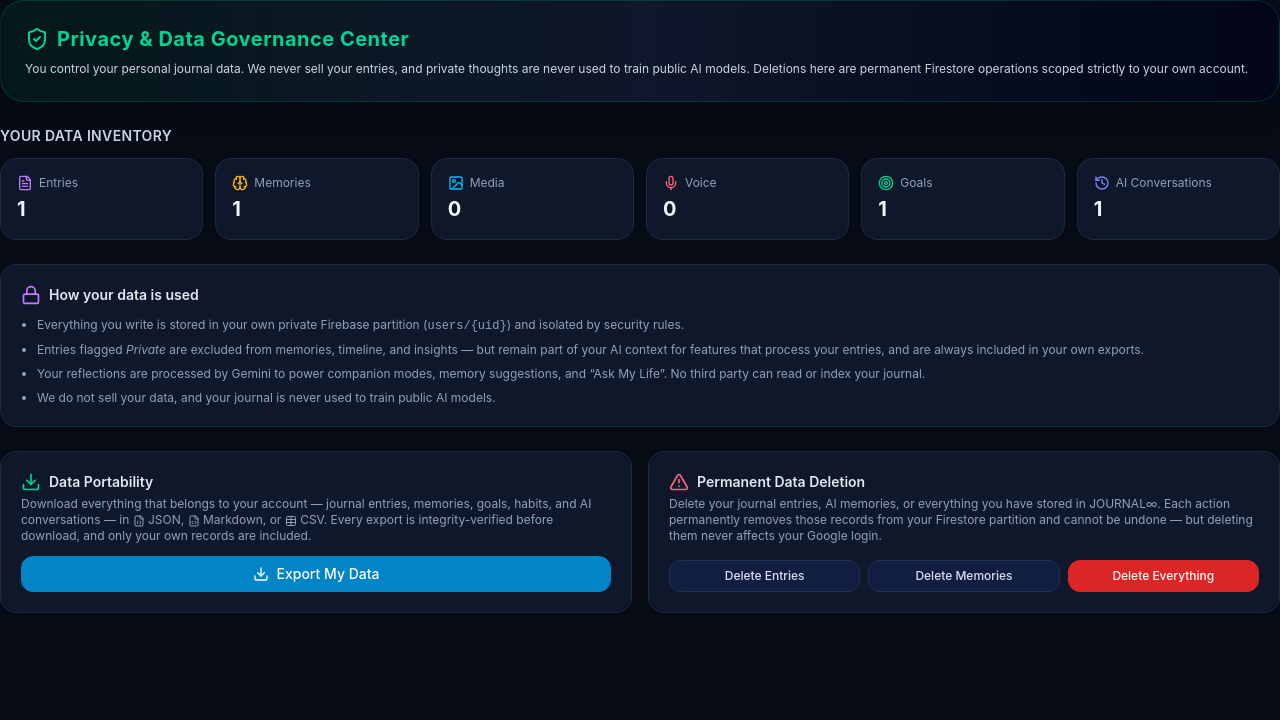
it: PrivacyCenterView component › requires typing the exact word DELETE before journal deletion is confirmed
This screenshot has width=1280, height=720.
Click the button "Delete Entries". click: (765, 576)
box: 669,560 -> 860,592
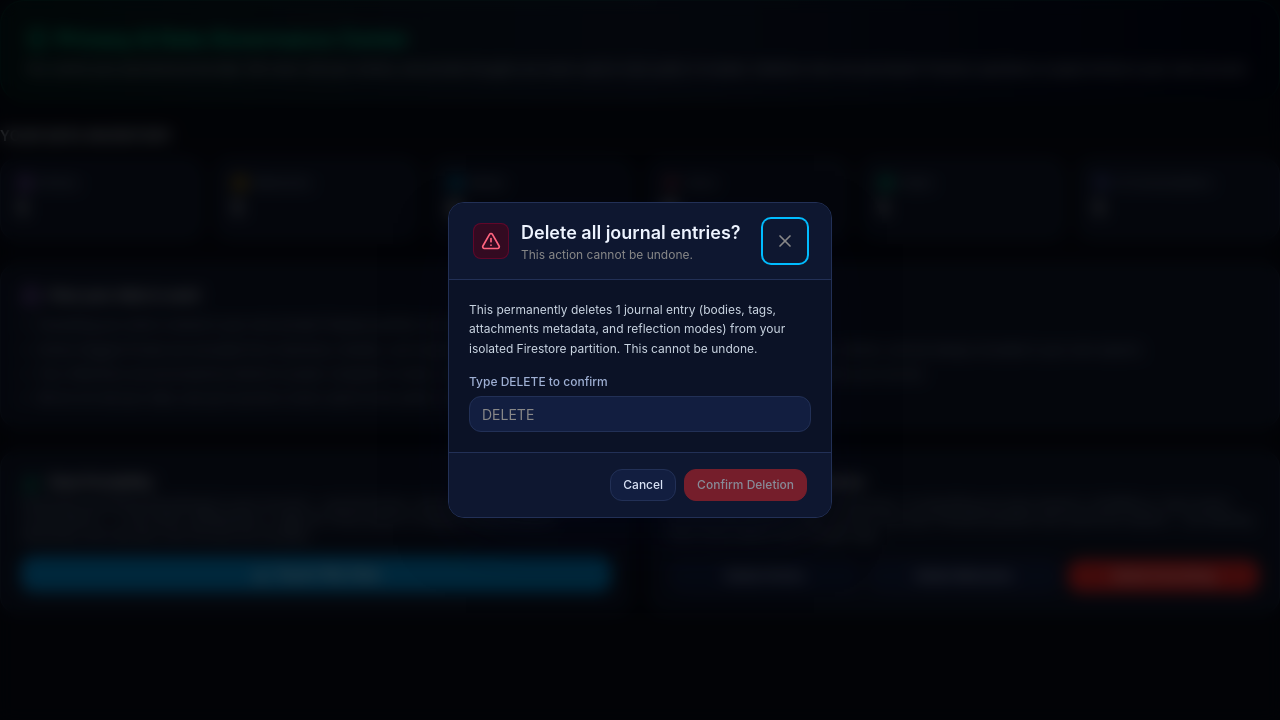
Expected: the heading "Delete all journal entries?" is shown, 521,219 -> 741,247
Expected: the button "Confirm Deletion" is disabled, 684,469 -> 807,501
Type "delete" into the field labelled "Type DELETE to confirm". click: (640, 414)
box: 469,396 -> 811,432
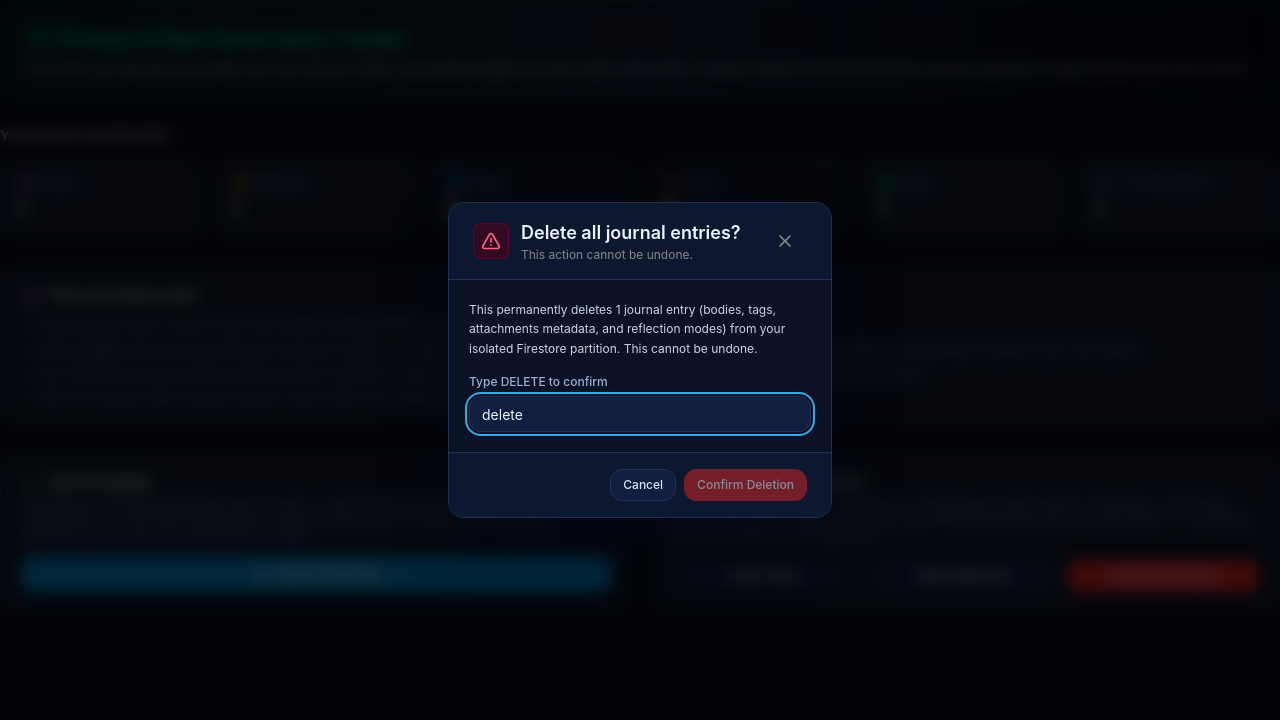
Expected: the button "Confirm Deletion" is disabled, 684,469 -> 807,501
Replace the text in the field labelled "Type DELETE to confirm" with "DELETE". click: (640, 414)
box: 469,396 -> 811,432
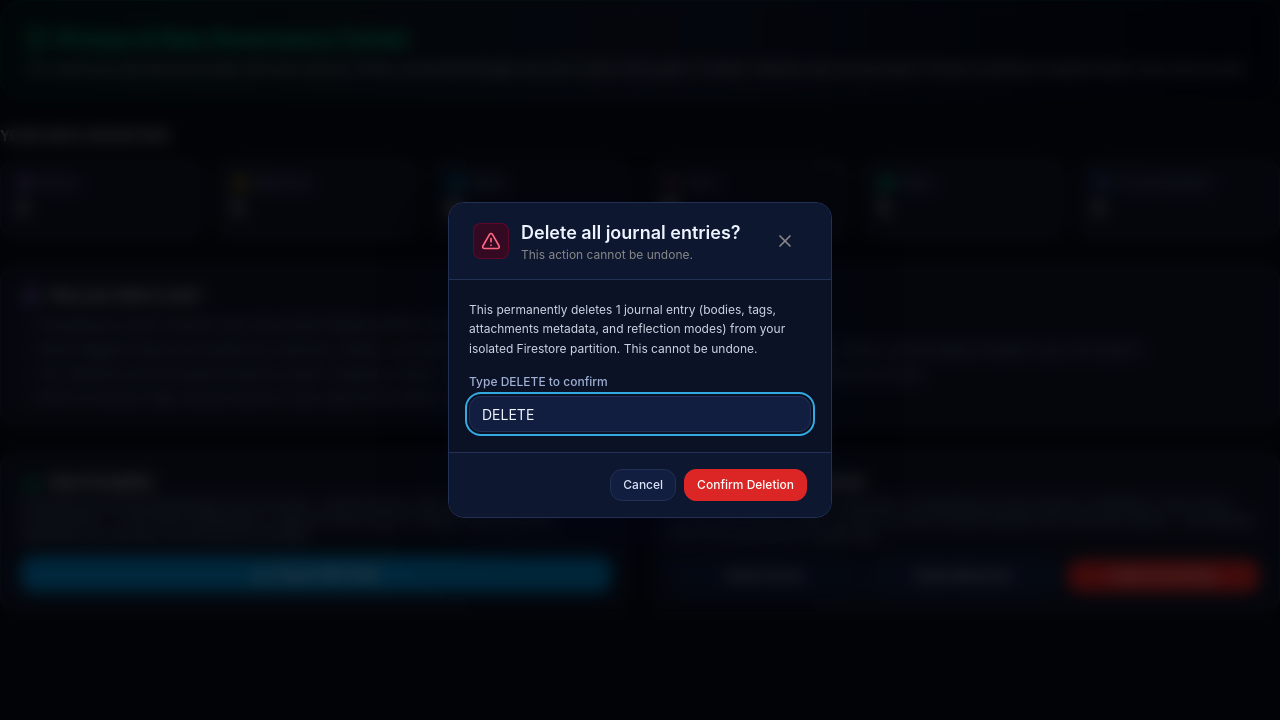
Expected: the button "Confirm Deletion" is enabled
Click the button "Confirm Deletion". click: (746, 485)
box: 684,469 -> 807,501
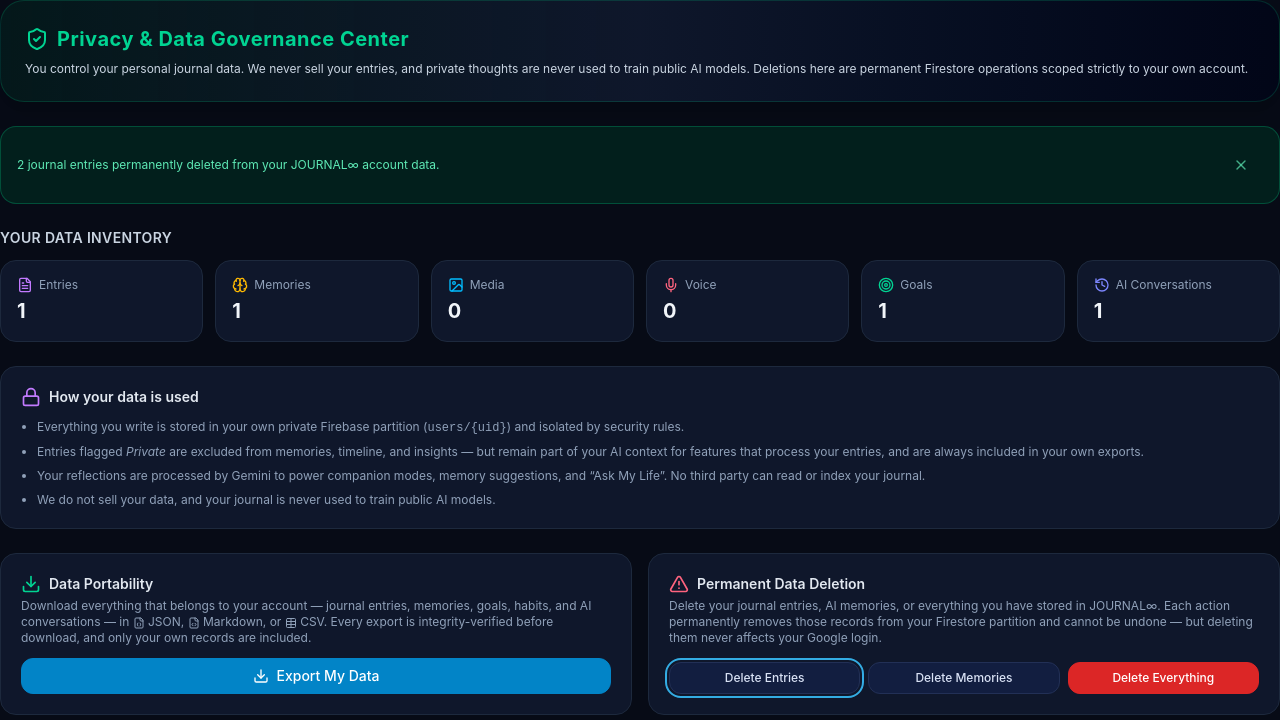
Expected: the text "2 journal entries permanently deleted" is shown, 17,157 -> 440,172
